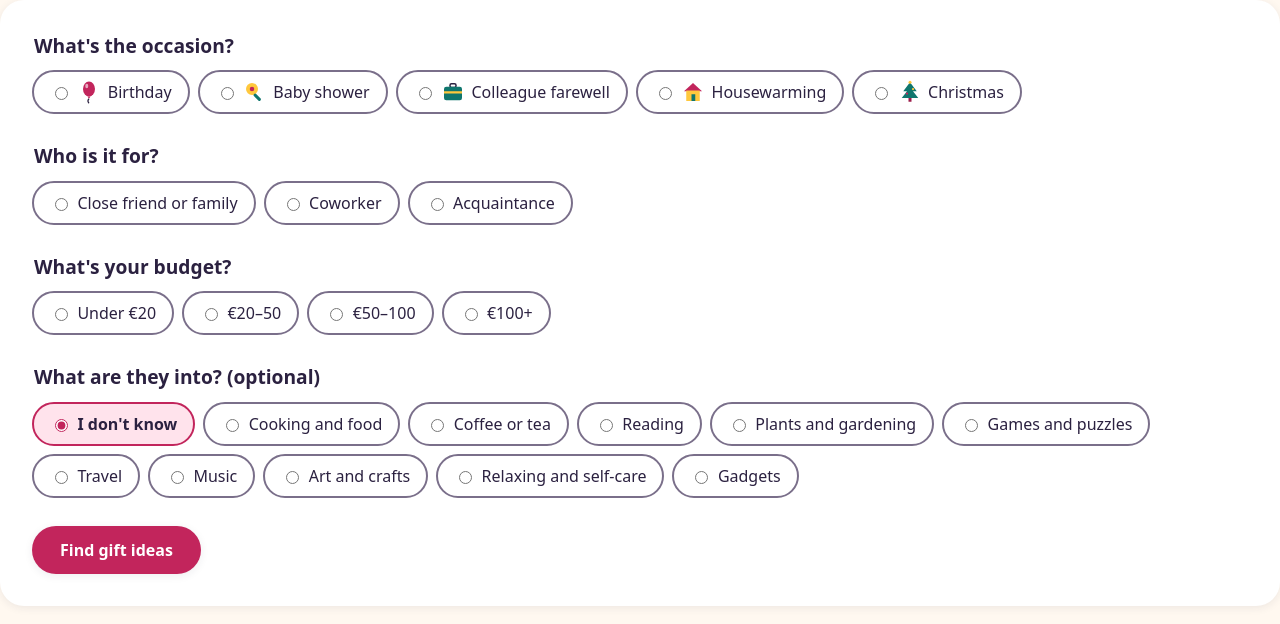
Test case: GiftQuizForm › only offers "Baby or new parent" for a baby shower
Check: the radio button labelled "Baby or new parent" is not shown
Click the radio button labelled "Baby shower" at (227, 94), box [221,87,234,100]
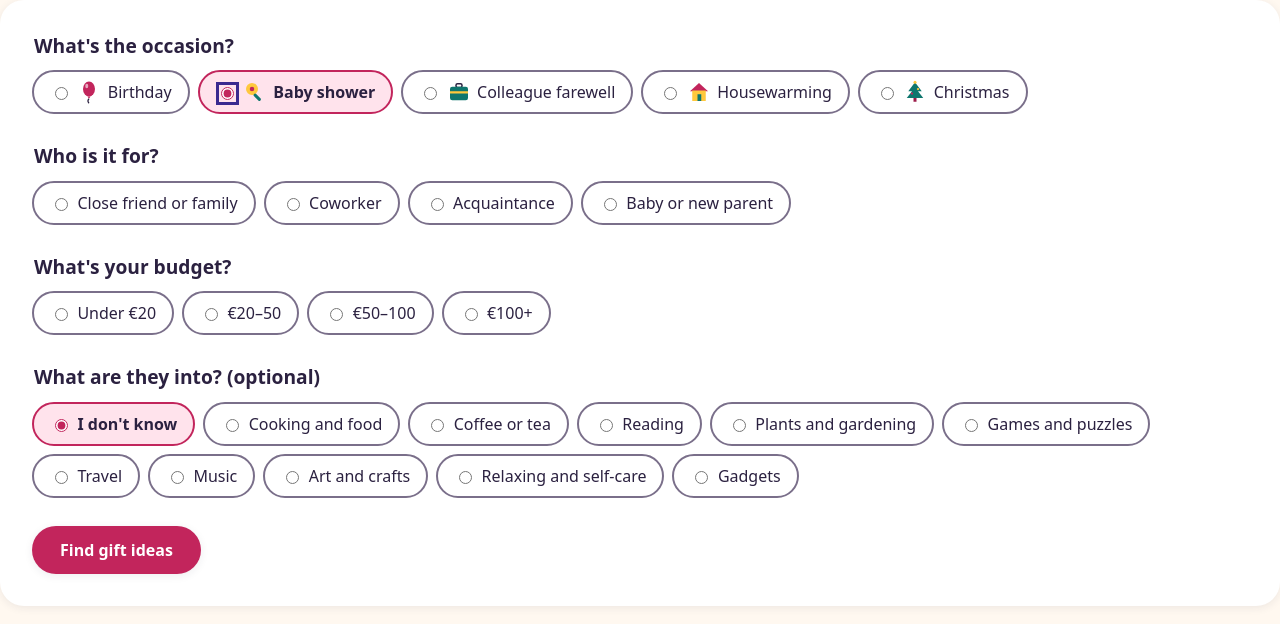
Check: the radio button labelled "Baby or new parent" is shown, box [604,198,617,211]
